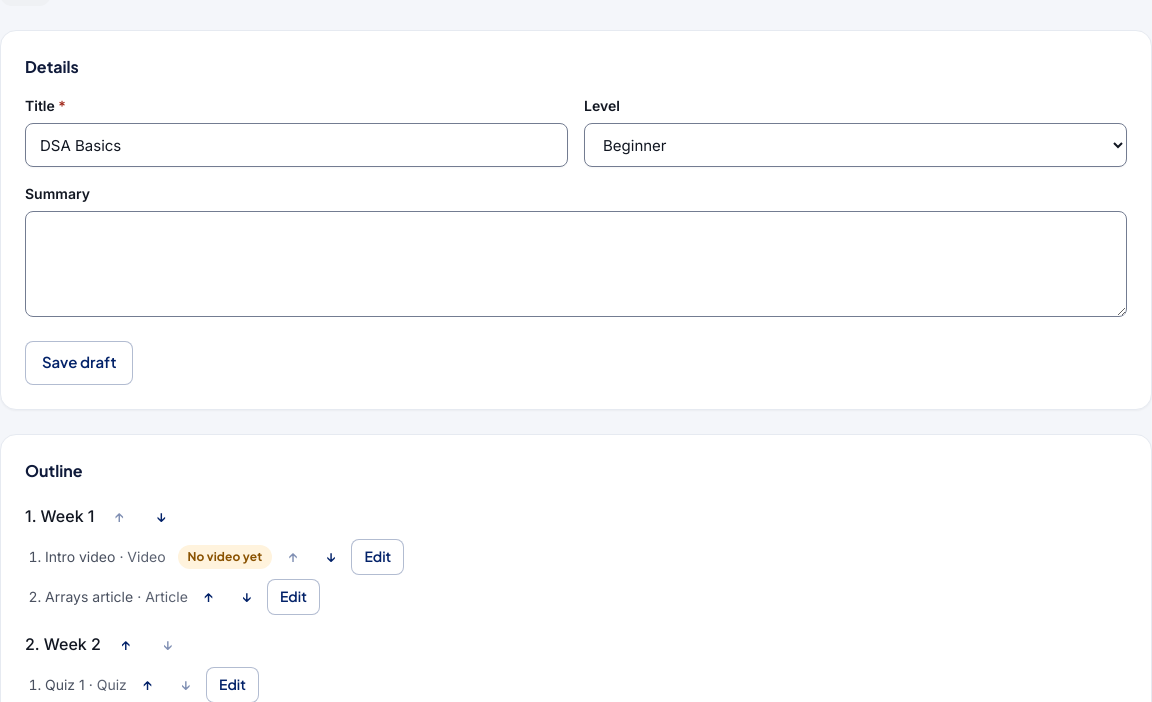
Scenario: Lesson types, topics and resources (w2b R4) › shows the lesson's saved topics and loads its resources from GET studio/resources
Click the button with aria-label "Edit Intro video" at point(378, 557), box [351,539,404,575]
(page scrolled)
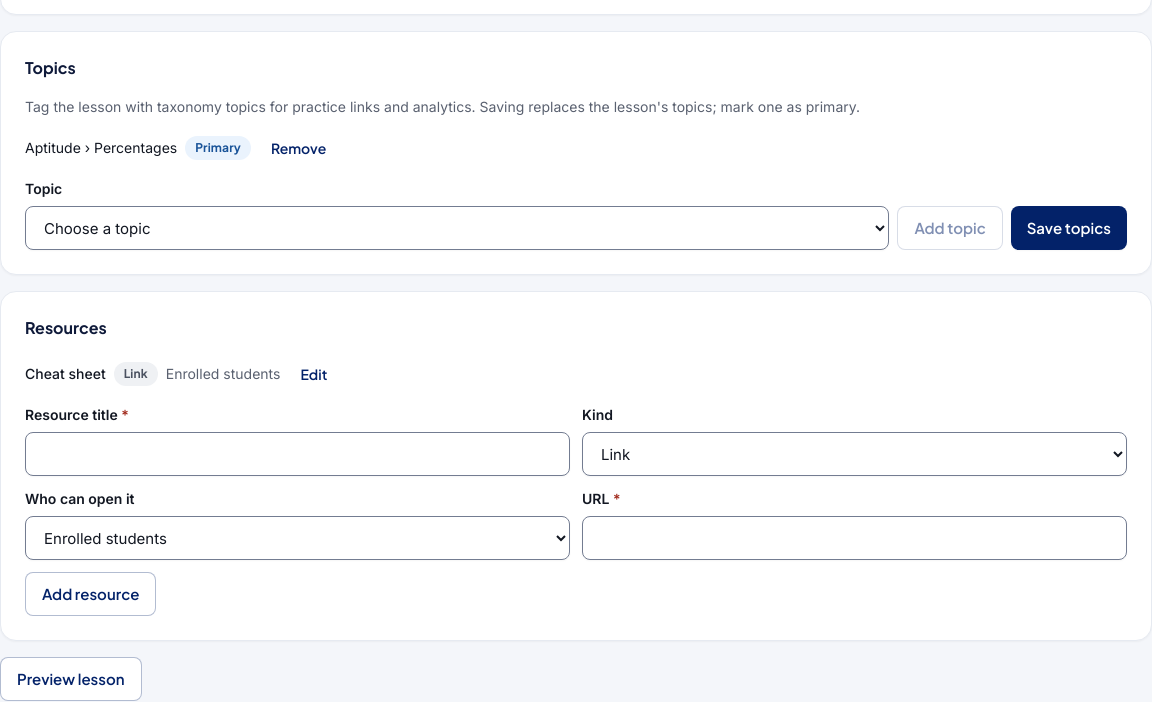
Result: the list named "Chosen topics" shows "Aptitude › Percentages" at [25,139,177,156]
Result: the text "Cheat sheet" is shown at [25,363,106,385]
